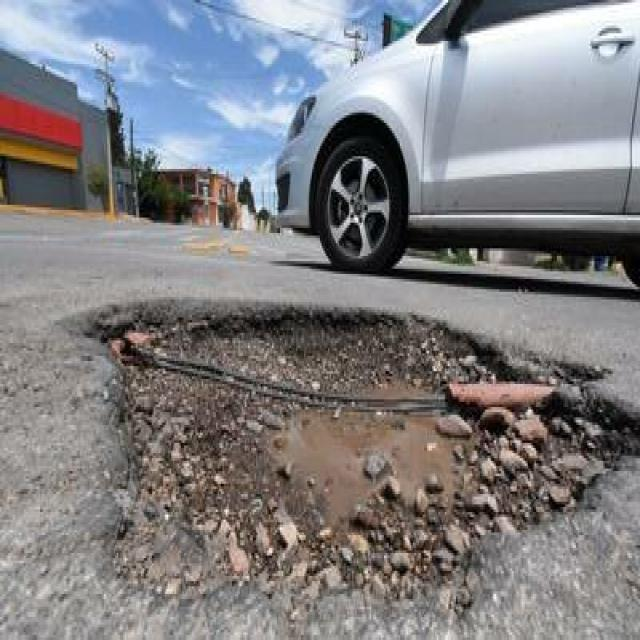Pothole: (64, 259, 640, 627)
